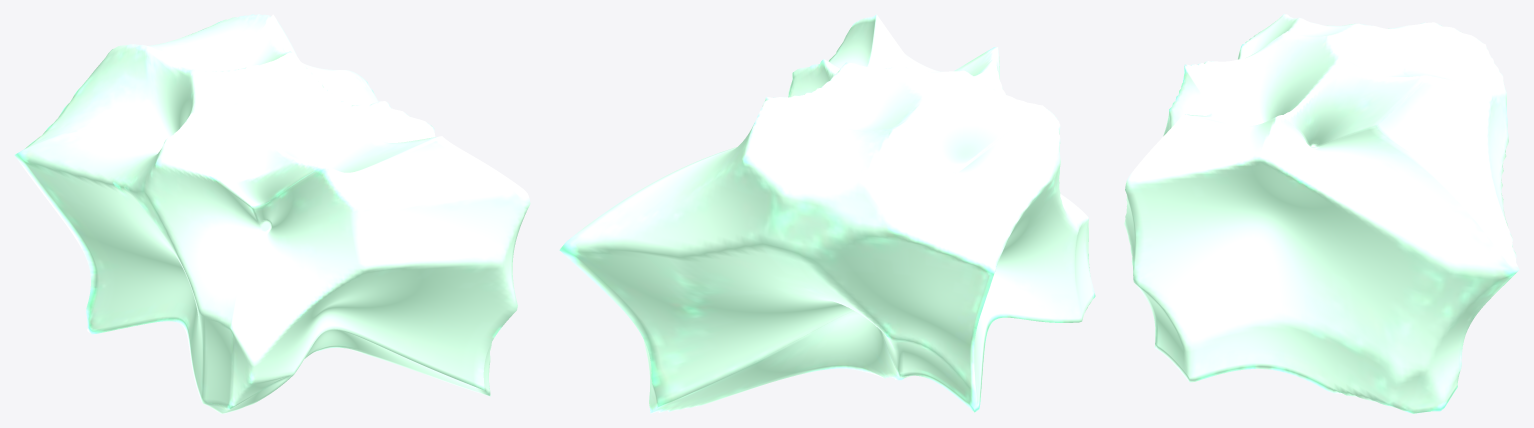
The model's file is gem-1.glb.
3 views of the same model, side by side, from view 1: azimuth 30°, elevation 25°; view 2: azimuth 150°, elevation 25°; view 3: azimuth 270°, elevation 25° (orthographic). The views are drawn at different scales.
Visible parts, largest first — view 1: Gem.001; view 2: Gem.001; view 3: Gem.001.
Part boxes in pixels (x1,y1,x2,y2): Gem.001: (14, 14, 530, 413); Gem.001: (559, 14, 1095, 413); Gem.001: (1124, 14, 1519, 413).
Size of the model in its own units: 0.5553 by 0.4641 by 0.5514.
